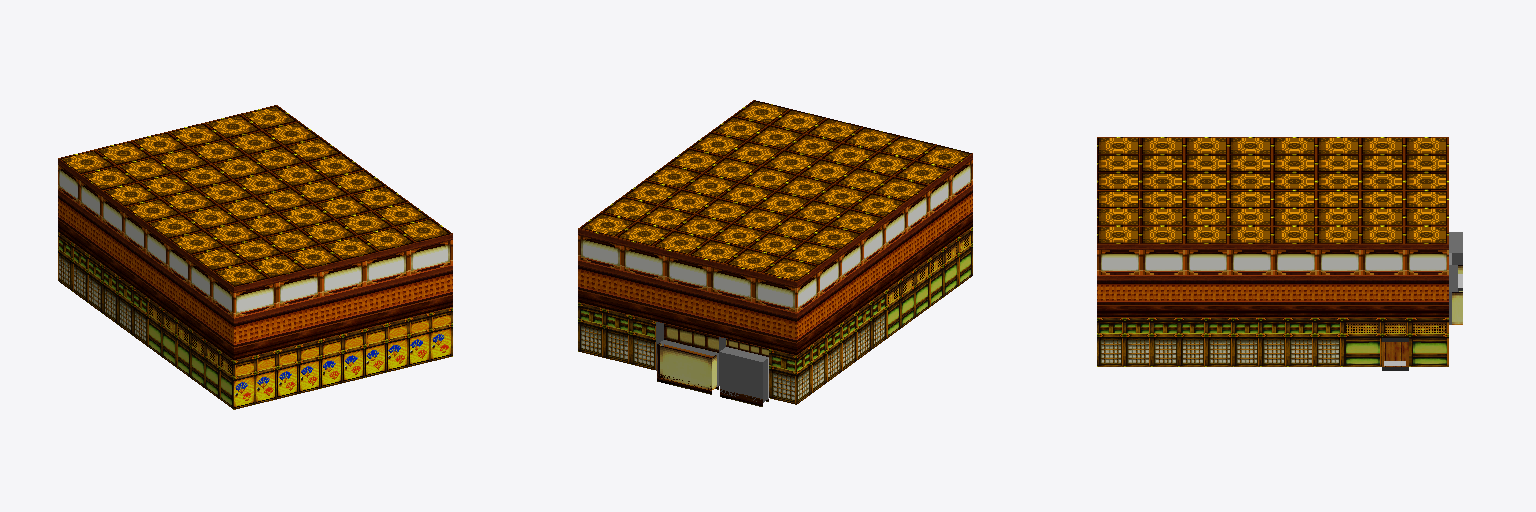
The picture shows the model from 3 angles: view 1: azimuth 30°, elevation 25°; view 2: azimuth 150°, elevation 25°; view 3: azimuth 270°, elevation 25°; orthographic projection.
Visible parts, largest first — view 1: Shape_IndexedFaceSet.031_Shape_IndexedFaceSet.151, Shape_IndexedFaceSet.018_Shape_IndexedFaceSet.138, Shape_IndexedFaceSet.019_Shape_IndexedFaceSet.139, Shape_IndexedFaceSet.024_Shape_IndexedFaceSet.144, Shape_IndexedFaceSet.021_Shape_IndexedFaceSet.141, Shape_IndexedFaceSet.023_Shape_IndexedFaceSet.143; view 2: Shape_IndexedFaceSet.031_Shape_IndexedFaceSet.151, Shape_IndexedFaceSet.018_Shape_IndexedFaceSet.138, Shape_IndexedFaceSet.019_Shape_IndexedFaceSet.139, Shape_IndexedFaceSet.021_Shape_IndexedFaceSet.141, Shape_IndexedFaceSet.023_Shape_IndexedFaceSet.143, Shape_IndexedFaceSet.017_Shape_IndexedFaceSet.137, Shape_IndexedFaceSet.012_Shape_IndexedFaceSet.132, Shape_IndexedFaceSet.020_Shape_IndexedFaceSet.140, Shape_IndexedFaceSet.015_Shape_IndexedFaceSet.135, Shape_IndexedFaceSet.008_Shape_IndexedFaceSet.128, Shape_IndexedFaceSet.014_Shape_IndexedFaceSet.134; view 3: Shape_IndexedFaceSet.031_Shape_IndexedFaceSet.151, Shape_IndexedFaceSet.019_Shape_IndexedFaceSet.139, Shape_IndexedFaceSet.021_Shape_IndexedFaceSet.141, Shape_IndexedFaceSet.022_Shape_IndexedFaceSet.142, Shape_IndexedFaceSet.002_Shape_IndexedFaceSet.122.
Boxes of the visible parts, x1=… form: Shape_IndexedFaceSet.031_Shape_IndexedFaceSet.151: x1=58, y1=105, x2=452, y2=286; Shape_IndexedFaceSet.018_Shape_IndexedFaceSet.138: x1=234, y1=234, x2=452, y2=360; Shape_IndexedFaceSet.019_Shape_IndexedFaceSet.139: x1=58, y1=159, x2=233, y2=359; Shape_IndexedFaceSet.024_Shape_IndexedFaceSet.144: x1=234, y1=308, x2=452, y2=409; Shape_IndexedFaceSet.021_Shape_IndexedFaceSet.141: x1=58, y1=232, x2=147, y2=346; Shape_IndexedFaceSet.023_Shape_IndexedFaceSet.143: x1=148, y1=298, x2=233, y2=409; Shape_IndexedFaceSet.031_Shape_IndexedFaceSet.151: x1=578, y1=100, x2=972, y2=281; Shape_IndexedFaceSet.018_Shape_IndexedFaceSet.138: x1=578, y1=229, x2=796, y2=355; Shape_IndexedFaceSet.019_Shape_IndexedFaceSet.139: x1=797, y1=154, x2=972, y2=354; Shape_IndexedFaceSet.021_Shape_IndexedFaceSet.141: x1=578, y1=290, x2=886, y2=403; Shape_IndexedFaceSet.023_Shape_IndexedFaceSet.143: x1=887, y1=227, x2=972, y2=338; Shape_IndexedFaceSet.017_Shape_IndexedFaceSet.137: x1=657, y1=345, x2=711, y2=390; Shape_IndexedFaceSet.012_Shape_IndexedFaceSet.132: x1=720, y1=352, x2=762, y2=401; Shape_IndexedFaceSet.020_Shape_IndexedFaceSet.140: x1=769, y1=349, x2=796, y2=404; Shape_IndexedFaceSet.015_Shape_IndexedFaceSet.135: x1=664, y1=324, x2=768, y2=356; Shape_IndexedFaceSet.008_Shape_IndexedFaceSet.128: x1=656, y1=322, x2=768, y2=386; Shape_IndexedFaceSet.014_Shape_IndexedFaceSet.134: x1=657, y1=374, x2=768, y2=406; Shape_IndexedFaceSet.031_Shape_IndexedFaceSet.151: x1=1097, y1=137, x2=1448, y2=243; Shape_IndexedFaceSet.019_Shape_IndexedFaceSet.139: x1=1097, y1=244, x2=1448, y2=317; Shape_IndexedFaceSet.021_Shape_IndexedFaceSet.141: x1=1097, y1=318, x2=1340, y2=366; Shape_IndexedFaceSet.022_Shape_IndexedFaceSet.142: x1=1341, y1=318, x2=1448, y2=366; Shape_IndexedFaceSet.002_Shape_IndexedFaceSet.122: x1=1382, y1=342, x2=1408, y2=366.
Bounding box in the file's own units: 37.76 × 20.18 × 52.73.
39 materials, 12 textured.